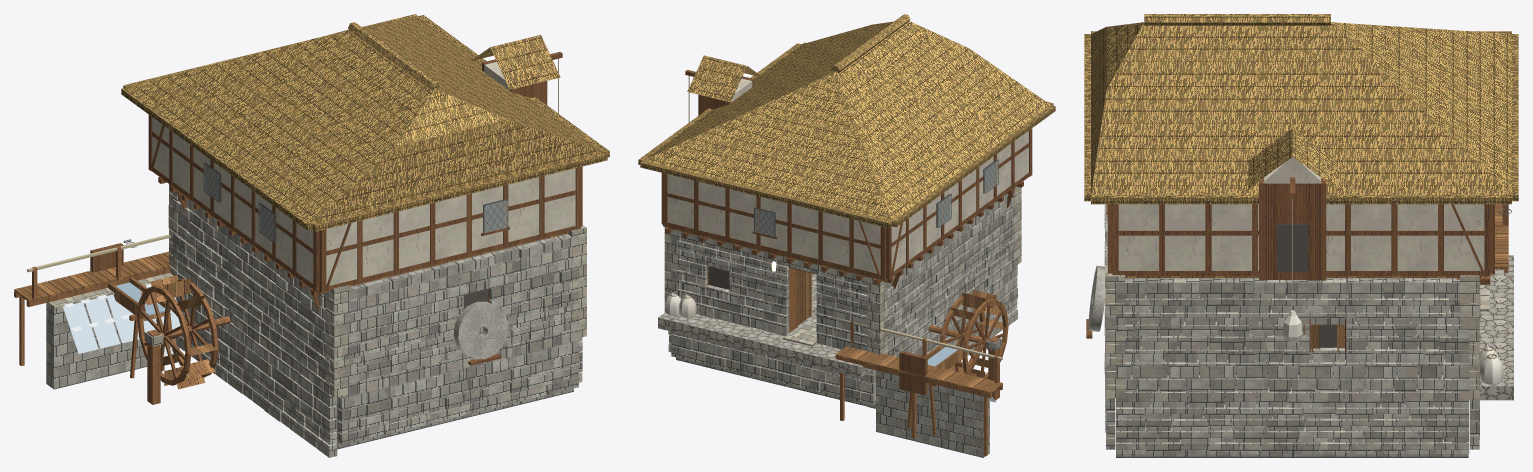
The model's file is mill.glb.
3 renders of one model, left to right at view 1: azimuth 30°, elevation 25°; view 2: azimuth 150°, elevation 25°; view 3: azimuth 270°, elevation 25°, orthographic. The views are drawn at different scales.
Parts seen in each view (by area): view 1: Mill_Shell, Mill_Roof, Mill_UpperShell, Mill_Weir, Mill_WheelParts, Mill_WeirWalk, Mill_RoofLucam, Mill_Dressing, Mill_Leat, Mill_GlazingRecess, Mill_WheelBearing, Mill_GlazingRecessLeads (+1 smaller); view 2: Mill_Roof, Mill_Shell, Mill_UpperShell, Mill_Weir, Mill_FloorFlags, Mill_WeirWalk, Mill_WheelParts, Mill_RoofLucam, Mill_Leat, Mill_FrameGround, Mill_UpperJoists, Mill_GlazingRecess (+3 smaller); view 3: Mill_Roof, Mill_Shell, Mill_UpperShell, Mill_RoofLucam, Mill_FloorFlags, Mill_Dressing, Mill_FrameGround, Mill_WeirWalk, Mill_UpperFloorBoards.
Part boxes in pixels (box(x1,y1,x2,y2)): Mill_Shell: box(168, 184, 586, 457); Mill_Roof: box(121, 14, 609, 231); Mill_UpperShell: box(148, 115, 582, 292); Mill_Weir: box(46, 273, 180, 389); Mill_WheelParts: box(136, 275, 230, 389); Mill_WeirWalk: box(14, 234, 170, 365); Mill_RoofLucam: box(471, 35, 562, 113); Mill_Dressing: box(453, 301, 508, 365); Mill_Leat: box(90, 239, 166, 378); Mill_GlazingRecess: box(204, 164, 507, 242); Mill_WheelBearing: box(144, 329, 163, 404); Mill_GlazingRecessLeads: box(203, 162, 508, 242); Mill_Roof: box(638, 14, 1055, 228); Mill_Shell: box(664, 186, 1021, 408); Mill_UpperShell: box(661, 128, 1032, 280); Mill_Weir: box(876, 370, 995, 457); Mill_FloorFlags: box(658, 273, 871, 377); Mill_WeirWalk: box(835, 320, 1002, 456); Mill_WheelParts: box(928, 290, 1008, 379); Mill_RoofLucam: box(685, 55, 763, 122); Mill_Leat: box(888, 341, 963, 435); Mill_FrameGround: box(707, 258, 816, 332); Mill_UpperJoists: box(665, 181, 1023, 289); Mill_GlazingRecess: box(755, 161, 997, 236); Mill_Roof: box(1084, 14, 1518, 204); Mill_Shell: box(1104, 204, 1480, 457); Mill_UpperShell: box(1106, 204, 1494, 276); Mill_RoofLucam: box(1248, 129, 1336, 342); Mill_FloorFlags: box(1469, 255, 1513, 400); Mill_Dressing: box(1086, 265, 1503, 385); Mill_FrameGround: box(1303, 317, 1346, 351); Mill_WeirWalk: box(1495, 204, 1508, 272); Mill_UpperFloorBoards: box(1125, 276, 1487, 277).
Bounding box in the file's own units: 13.42 × 9.89 × 9.8.
26 materials, 14 textured.
